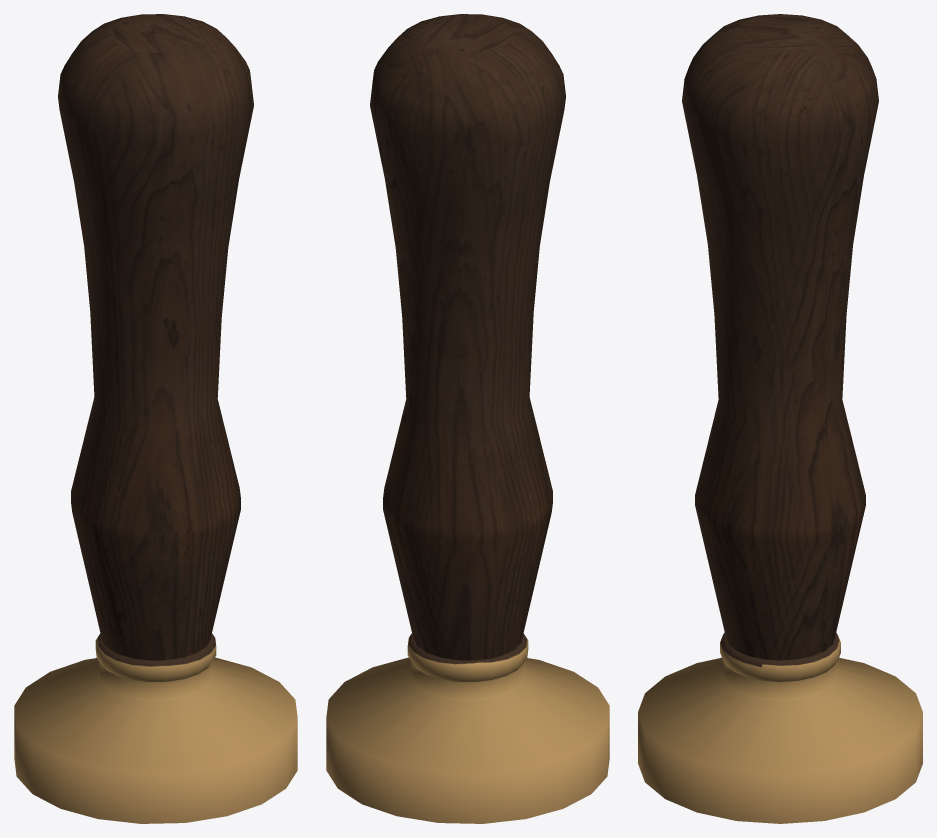
The model's file is wax_stamp_01.fbx.
3 views of the same model, side by side, from view 1: azimuth 30°, elevation 25°; view 2: azimuth 150°, elevation 25°; view 3: azimuth 270°, elevation 25° (orthographic).
Parts seen in each view (by area): view 1: wax_stamp_01; view 2: wax_stamp_01; view 3: wax_stamp_01.
Boxes of the visible parts, x1,y1,x2,y2 form: wax_stamp_01: (14,14,297,823); wax_stamp_01: (326,14,609,823); wax_stamp_01: (638,14,922,823).
Size of the model in its own units: 10.37 by 29.32 by 10.37.
